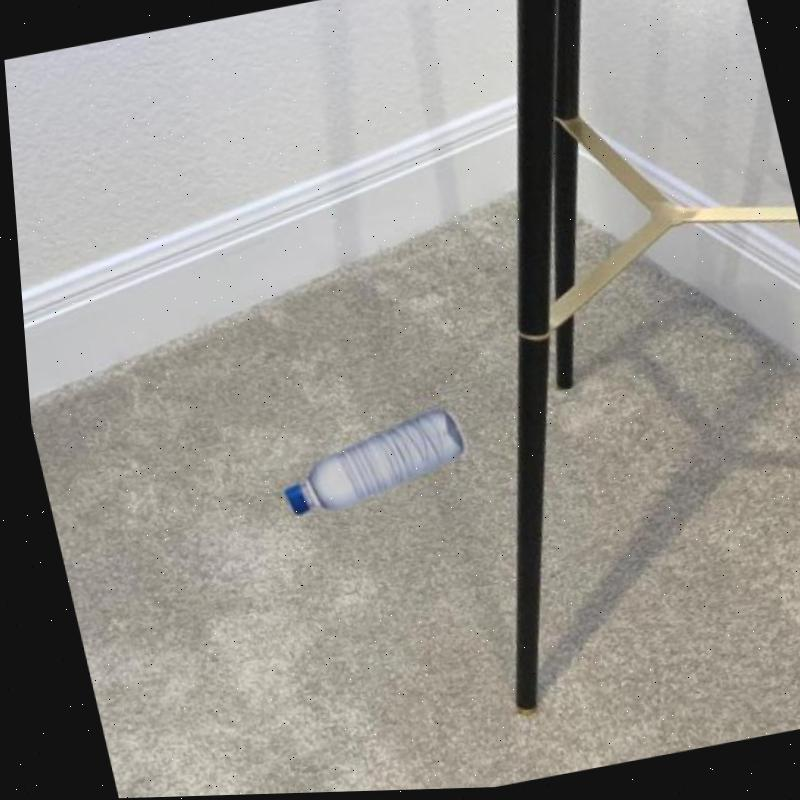botella: (262, 404, 469, 523)
